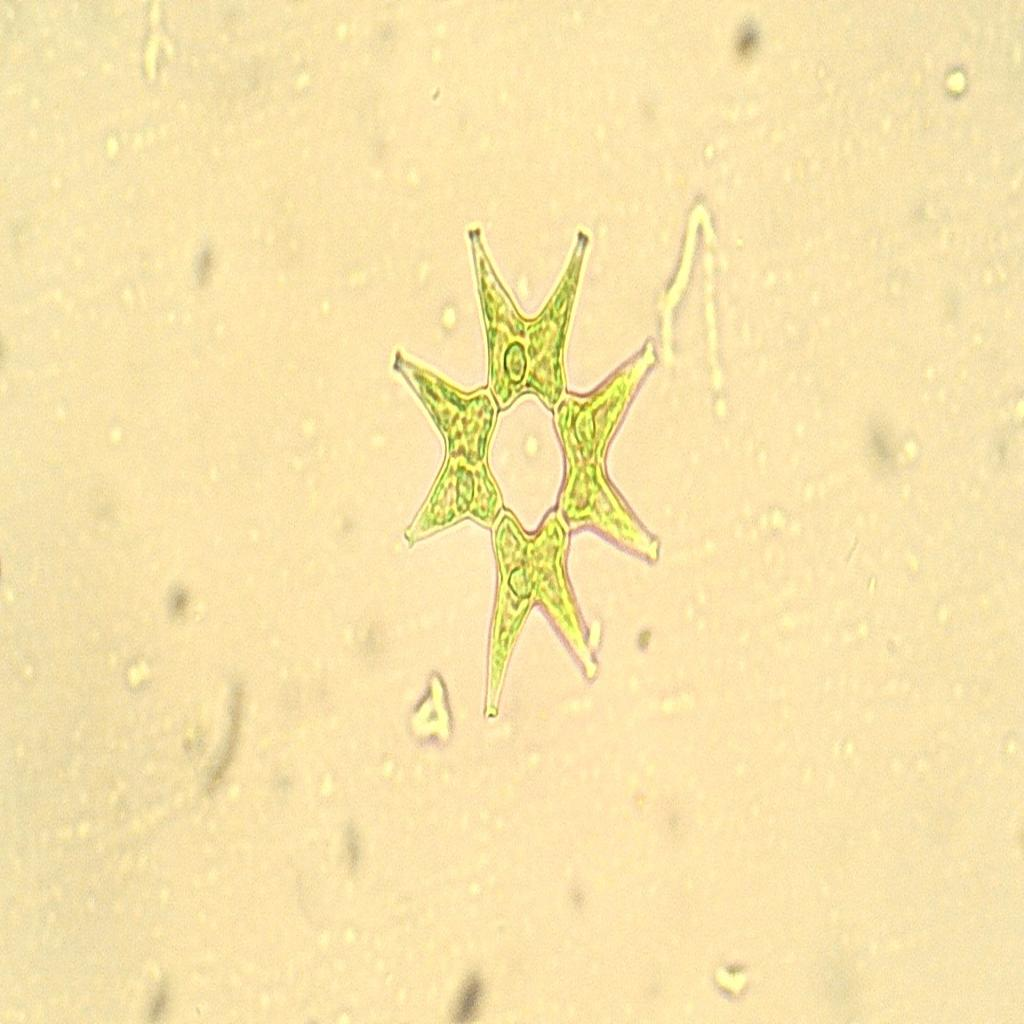Pediastrum_CO: (374, 203, 686, 748)
